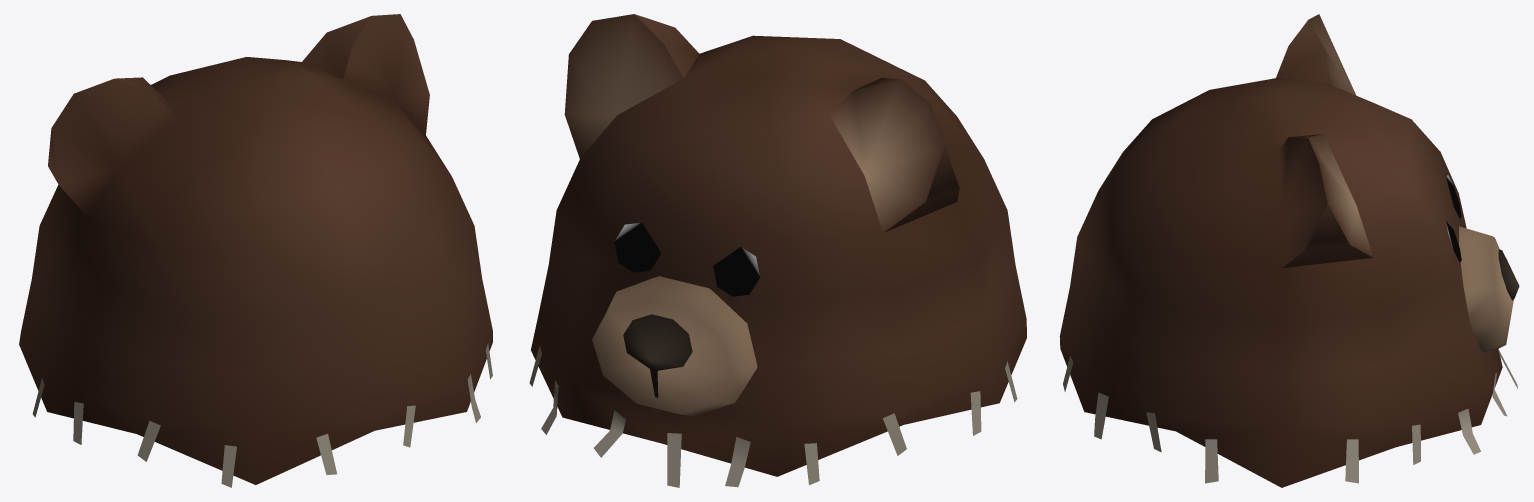
The model's file is hat_bear.glb.
The picture shows the model from 3 angles, left to right: view 1: azimuth 30°, elevation 25°; view 2: azimuth 150°, elevation 25°; view 3: azimuth 270°, elevation 25°; orthographic projection. The views are drawn at different scales.
Parts seen in each view (by area): view 1: hat_bear; view 2: hat_bear; view 3: hat_bear.
Boxes of the visible parts, x1,y1,x2,y2 form: hat_bear: [19, 14, 492, 487]; hat_bear: [529, 14, 1026, 487]; hat_bear: [1059, 14, 1519, 487].
Size of the model in its own units: 0.3559 by 0.2677 by 0.351.
